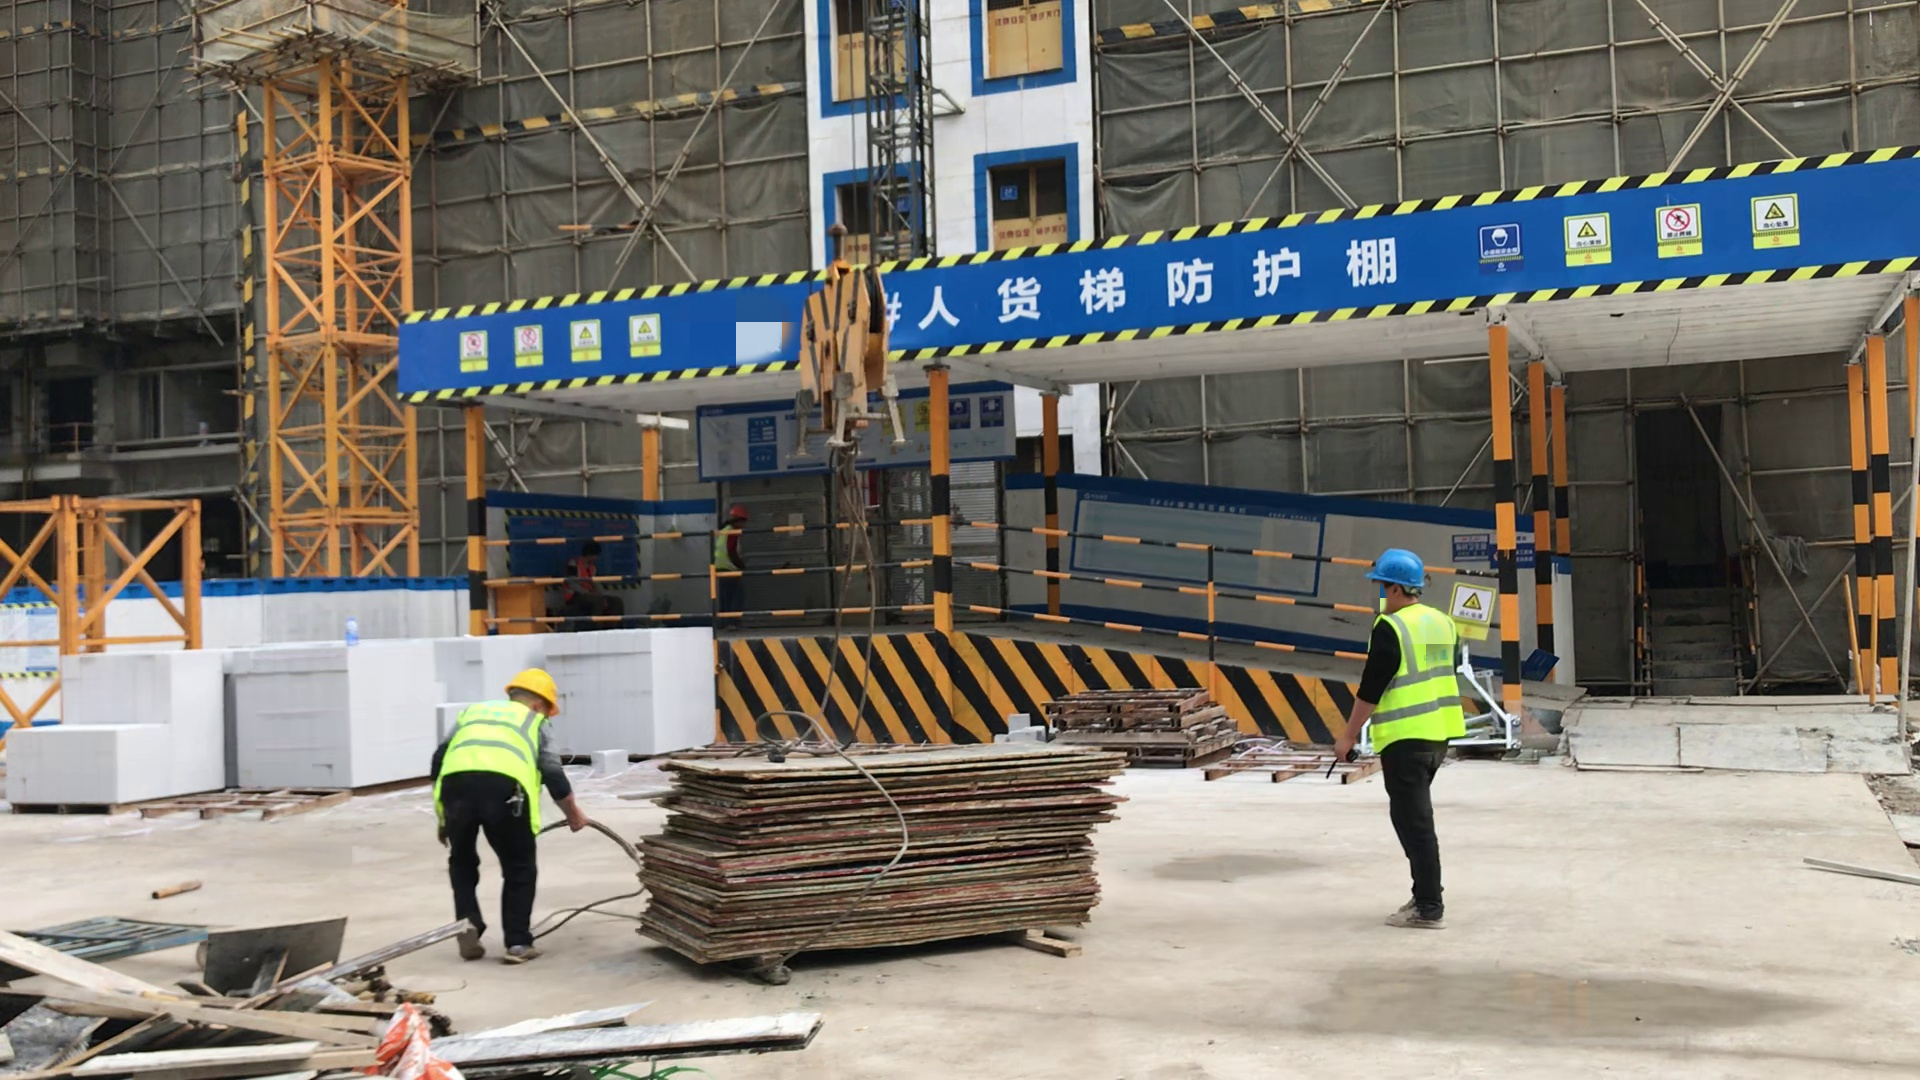board: (629, 747, 1131, 977)
brick: (1, 636, 439, 807), (557, 628, 711, 763), (443, 632, 543, 697)
ebox: (493, 579, 550, 635)
handcart: (1, 920, 220, 974)
helmet: (1363, 547, 1433, 595), (505, 666, 559, 718), (728, 505, 749, 522)
hook: (797, 237, 911, 549)
person: (1340, 542, 1475, 933), (432, 669, 586, 963), (561, 542, 629, 617), (711, 504, 747, 631)
slogan: (913, 235, 1400, 338), (1469, 190, 1813, 277), (455, 311, 665, 372), (1449, 577, 1493, 644)
vest: (440, 696, 546, 836), (1368, 607, 1467, 746), (712, 524, 741, 573), (567, 557, 599, 595)
